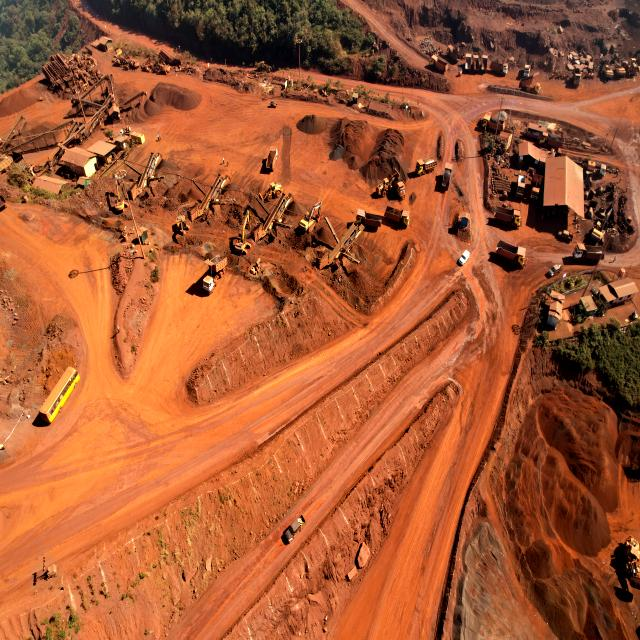Dumper truck: (495, 242, 526, 268), (200, 259, 223, 293), (492, 204, 521, 226), (575, 245, 602, 265), (386, 207, 410, 226), (357, 210, 381, 228), (264, 146, 280, 172), (416, 156, 436, 174), (540, 131, 562, 147), (430, 57, 451, 73), (482, 115, 504, 130), (441, 164, 452, 188), (521, 81, 540, 93), (492, 62, 508, 75), (516, 176, 525, 198), (531, 72, 540, 92), (532, 174, 540, 196), (573, 68, 580, 86), (481, 56, 488, 69), (473, 56, 480, 69), (524, 62, 530, 76), (466, 54, 472, 67)
Excavator: (619, 534, 640, 593), (592, 205, 614, 242), (299, 201, 321, 232), (175, 213, 191, 250), (104, 190, 128, 213), (230, 235, 251, 254), (598, 60, 614, 80), (241, 208, 251, 239), (377, 176, 393, 195), (614, 60, 626, 76)
car: (282, 514, 305, 543), (625, 534, 640, 554), (458, 251, 470, 266), (558, 230, 572, 240), (550, 264, 561, 275)
person: (222, 157, 225, 164), (227, 159, 229, 167), (159, 133, 161, 141), (158, 135, 160, 142)
